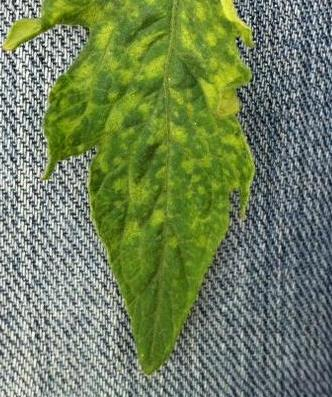Tomato leaf mosaic virus: (0, 0, 265, 385)
